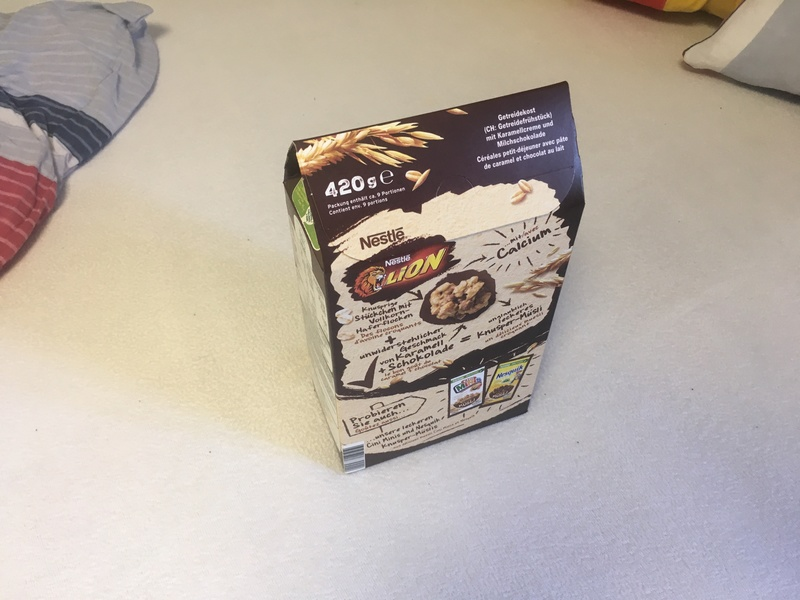cereals: (283, 81, 585, 467)
